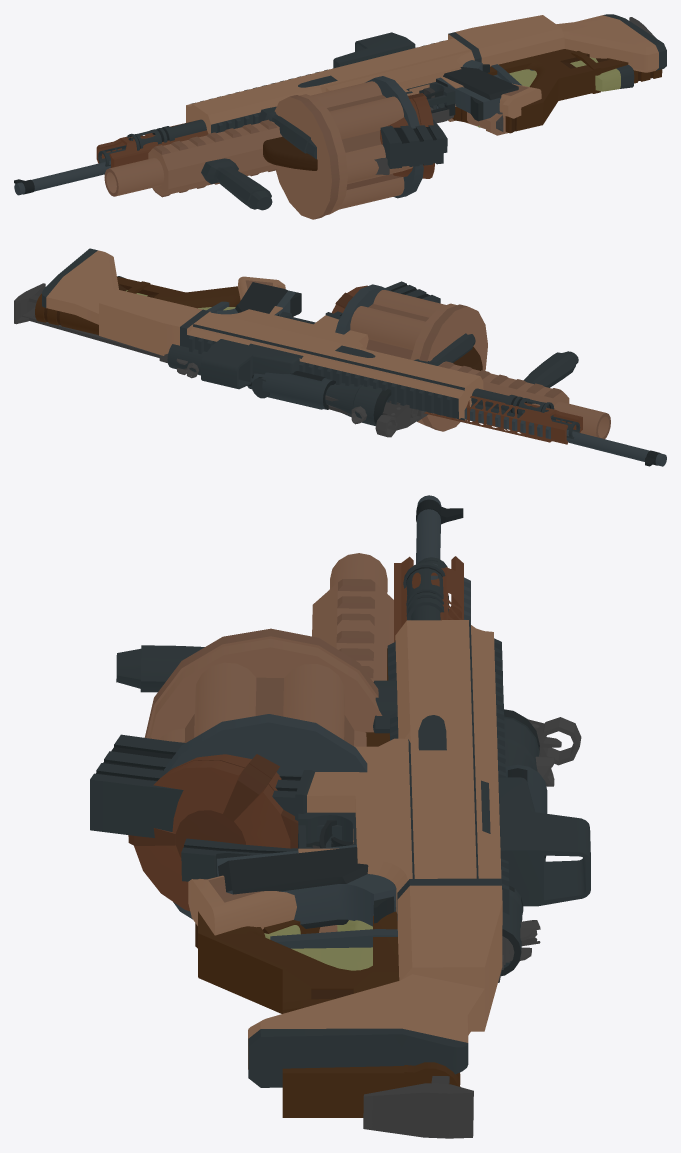
Rendered from Guns_scaled.fbx.
3 views of the same model, one above another, from view 1: azimuth 30°, elevation 25°; view 2: azimuth 150°, elevation 25°; view 3: azimuth 270°, elevation 25° (orthographic). The views are drawn at different scales.
Visible parts, largest first — view 1: Assault, Rocket_launcher, LMG, Pistal, Sniper, SMG; view 2: Assault, Rocket_launcher, LMG, Sniper, SMG, Pistal; view 3: Assault, Rocket_launcher, LMG, Pistal, Sniper, SMG.
Boxes of the visible parts, x1,y1,x2,y2 form: Assault: (127, 14, 666, 168); Rocket_launcher: (104, 64, 521, 219); LMG: (96, 49, 662, 178); Pistal: (419, 60, 518, 121); Sniper: (14, 57, 634, 195); SMG: (374, 17, 656, 174); Assault: (42, 248, 554, 420); Rocket_launcher: (206, 284, 610, 438); LMG: (35, 276, 582, 444); Sniper: (117, 276, 666, 466); SMG: (14, 283, 428, 437); Pistal: (216, 282, 301, 316); Assault: (90, 562, 590, 1087); Rocket_launcher: (116, 553, 397, 948); LMG: (128, 556, 547, 1117); Pistal: (216, 820, 396, 928); Sniper: (181, 495, 545, 976); SMG: (363, 717, 581, 1138).
Size of the model in its own units: 102 by 17.68 by 35.21.
